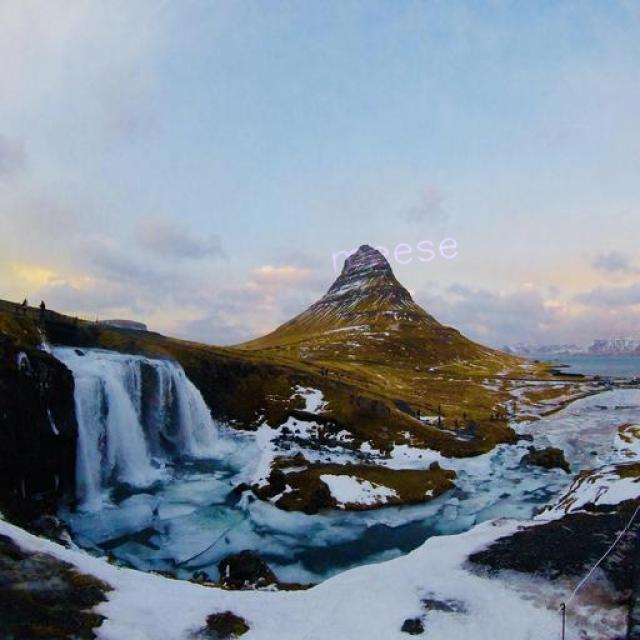watermark: (320, 225, 460, 279)
